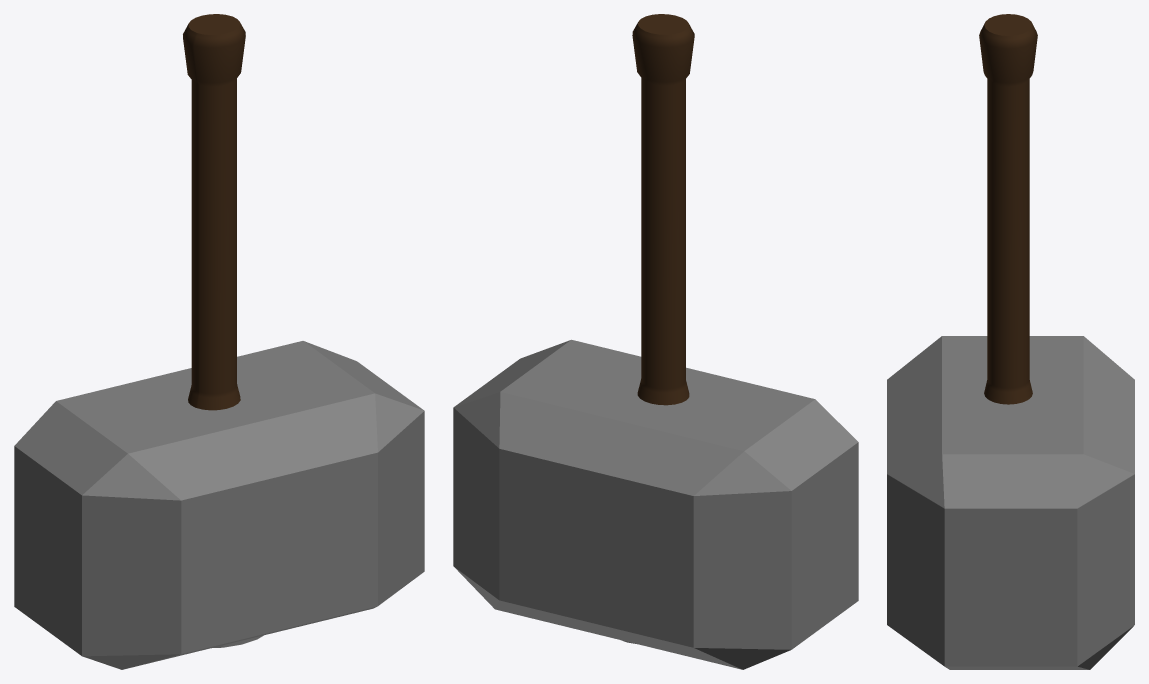
The picture shows the model from 3 angles, left to right: view 1: azimuth 30°, elevation 25°; view 2: azimuth 150°, elevation 25°; view 3: azimuth 270°, elevation 25°; orthographic projection.
Parts seen in each view (by area): view 1: Mjolnir Wacking_Part, Mjolnir Handel; view 2: Mjolnir Wacking_Part, Mjolnir Handel; view 3: Mjolnir Wacking_Part, Mjolnir Handel.
Part boxes in pixels (x1,y1,x2,y2): Mjolnir Wacking_Part: (14,341,424,669); Mjolnir Handel: (183,14,245,410); Mjolnir Wacking_Part: (453,339,858,669); Mjolnir Handel: (632,14,694,405); Mjolnir Wacking_Part: (887,336,1134,669); Mjolnir Handel: (979,14,1037,404).
Bounding box in the file's own units: 31.48 × 52.83 × 20.08.
